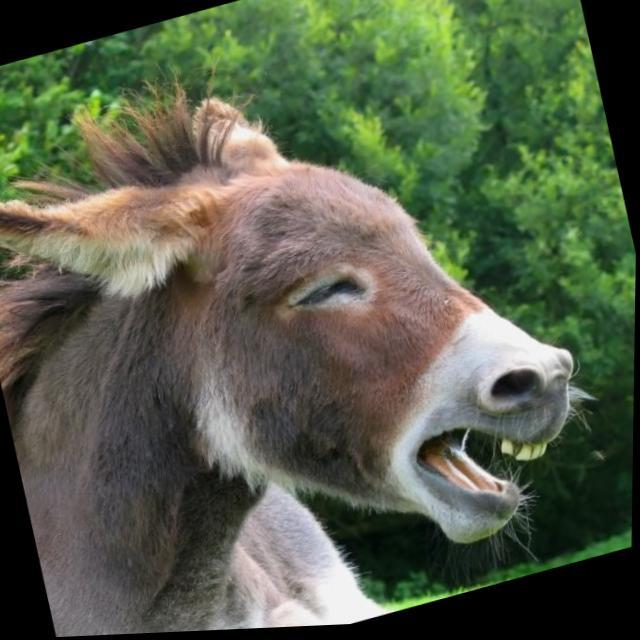Donkey: (8, 0, 640, 639)
